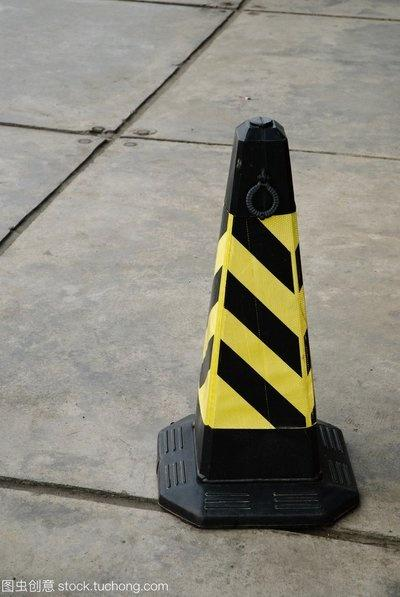cone_barrel: (164, 119, 357, 514)
